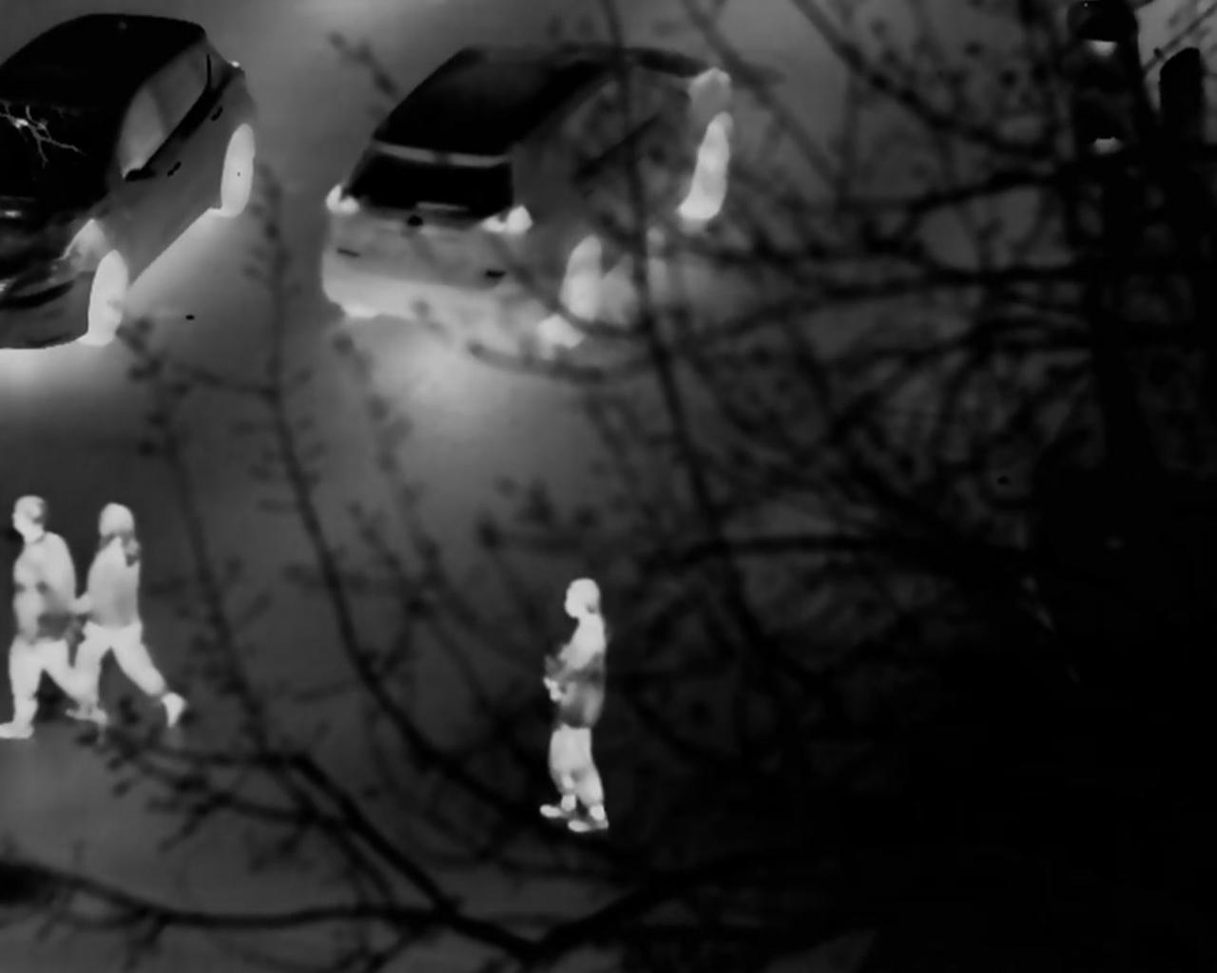person: (69, 506, 178, 728), (540, 568, 622, 849), (5, 496, 83, 735)
